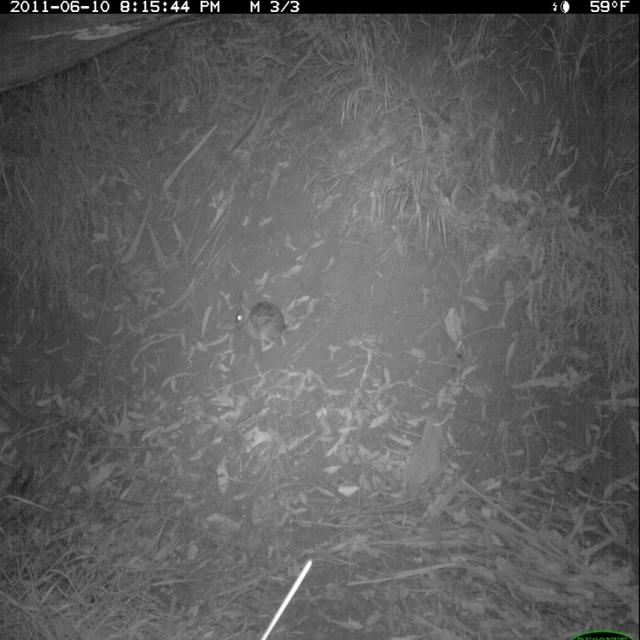rabbit: (233, 281, 291, 364)
